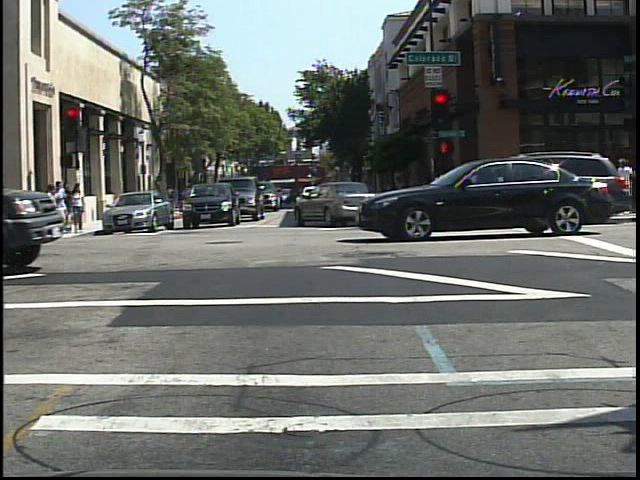person: (615, 151, 638, 220), (162, 180, 180, 220)
